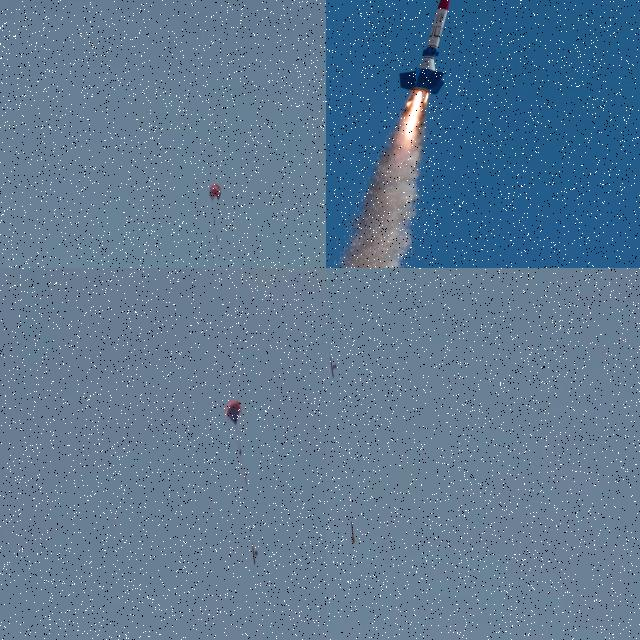Rocket: (398, 0, 451, 94), (352, 522, 354, 544)
